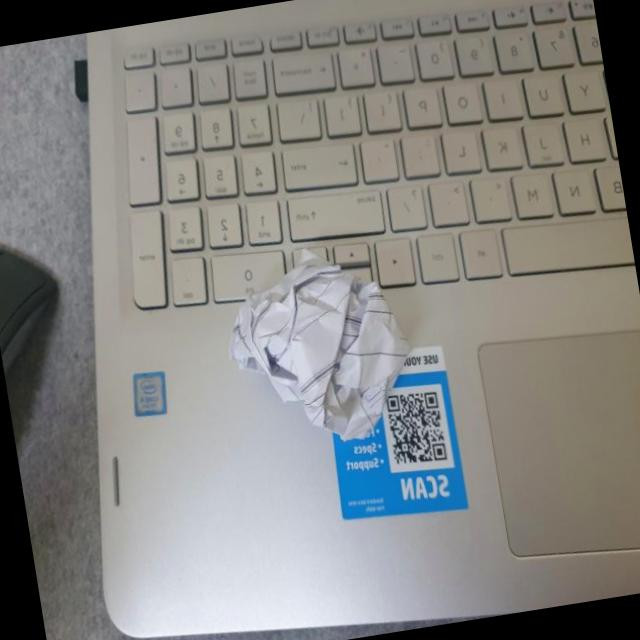cardboard paper: (231, 249, 409, 440)
